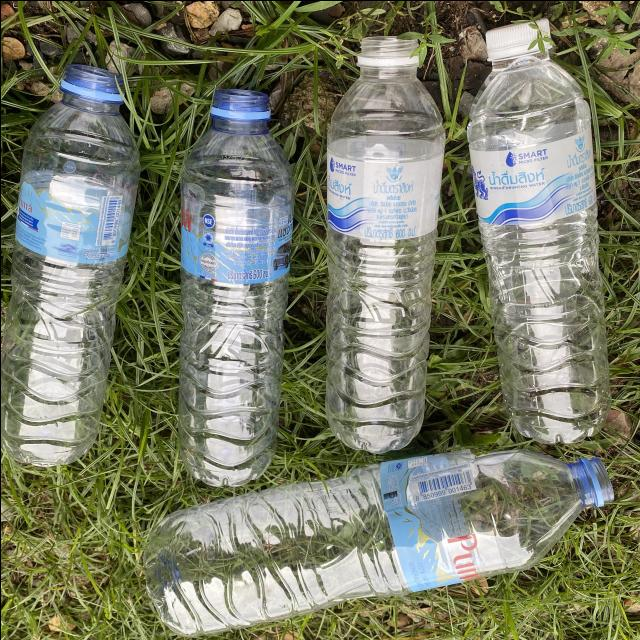plastik: (143, 449, 613, 634), (467, 18, 609, 442), (0, 63, 138, 465), (325, 36, 444, 453), (178, 87, 293, 485)
